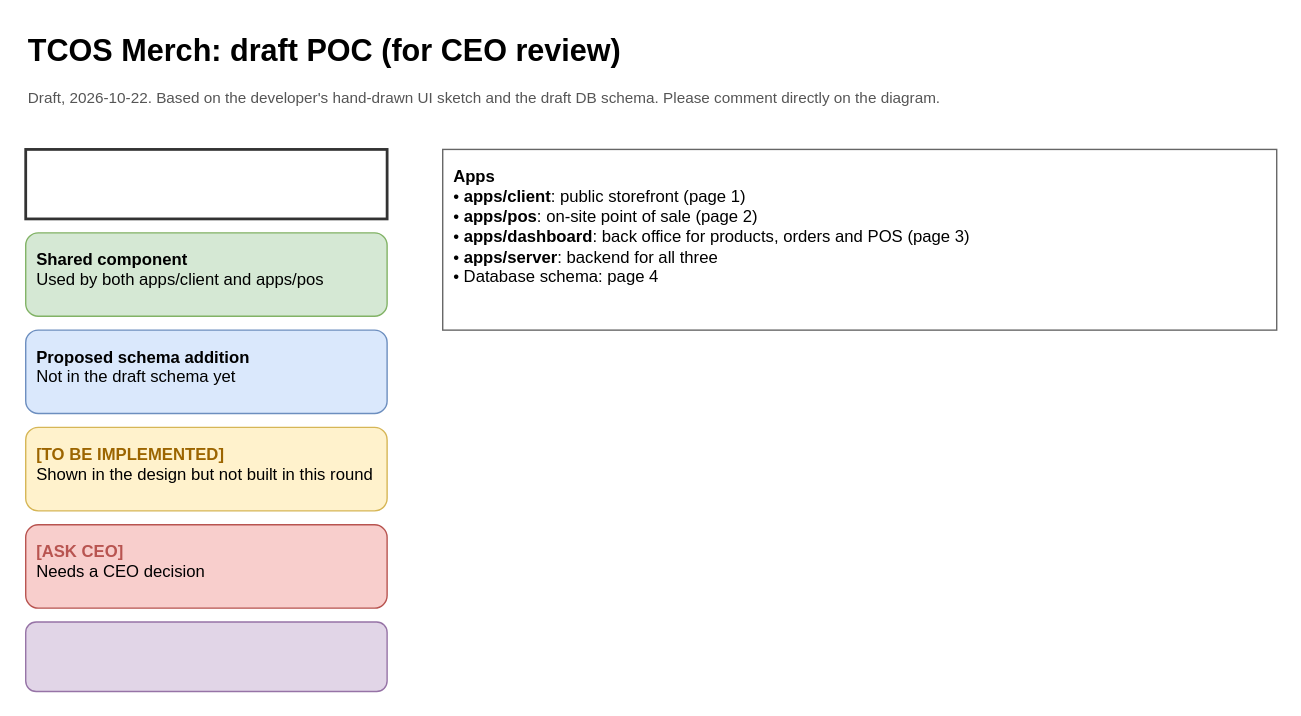
This 1301x716 diagram has some shape labels left out. Here are the shapes that lost their labels. From the top down, the centre of each, then its label:
point 206,183: Screen / UI element
point 205,656: External service (Google, Resend, postcode API)
